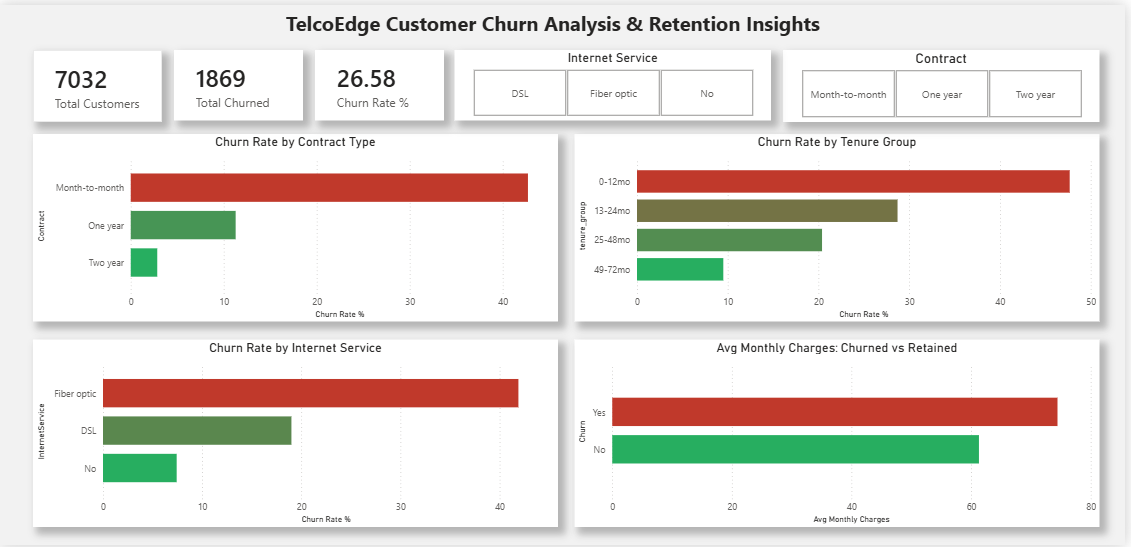

The dashboard page shown, as its layout file describes it:
{"tool":"powerbi","page":{"name":"Page 1","canvas":[1500,720],"ordinal":0},"visuals":[{"type":"cardVisual","fields":{"Data":["CountNonNull(telco_churn telco.customerID)"]},"box":[44,60,172,96],"z":0},{"type":"cardVisual","fields":{"Data":["telco_cleaned.Total Churned"]},"box":[231.5,60,172,94],"z":1000},{"type":"clusteredBarChart","title":"Churn Rate by Contract Type","fields":{"Y":["telco_cleaned.Churn Rate %"],"Category":["telco_churn telco.Contract"]},"box":[44,172,700,250],"z":2000},{"type":"clusteredBarChart","title":"Churn Rate by Internet Service","fields":{"Y":["telco_cleaned.Churn Rate %"],"Category":["telco_churn telco.InternetService"]},"box":[44,446,700,250],"z":3000},{"type":"cardVisual","fields":{"Data":["telco_cleaned.Churn Rate %"]},"box":[419,60,172,94],"z":4000},{"type":"clusteredBarChart","title":"Avg Monthly Charges: Churned vs Retained","fields":{"Category":["telco_churn telco.Churn"],"Y":["telco_churn telco.Avg Monthly Charges"]},"box":[766,446,700,250],"z":5000},{"type":"clusteredBarChart","title":"Churn Rate by Tenure Group","fields":{"Y":["telco_cleaned.Churn Rate %"],"Category":["telco_churn telco.tenure_group"]},"box":[766,172,700,250],"z":6000},{"type":"slicer","title":"Contract","fields":{"Values":["telco_churn telco.Contract"]},"box":[1044,60,422,94],"z":7000},{"type":"slicer","title":"Internet Service","fields":{"Values":["telco_churn telco.InternetService"]},"box":[606.5,60,422,94],"z":8000},{"type":"textbox","box":[375.9,0,748.3,46.6],"z":9000}]}

Visuals, with their boxes in screenshot pixels (x1, y1, x2, y2), scaled from the page's 1500x720 canvas onto the 1131x547 screenshot:
cardVisual - CountNonNull(telco_churn telco.customerID): pyautogui.locateOnScreen(33, 46, 163, 119)
cardVisual - telco_cleaned.Total Churned: pyautogui.locateOnScreen(175, 46, 304, 117)
"Churn Rate by Contract Type" clusteredBarChart: pyautogui.locateOnScreen(33, 131, 561, 321)
"Churn Rate by Internet Service" clusteredBarChart: pyautogui.locateOnScreen(33, 339, 561, 529)
cardVisual - telco_cleaned.Churn Rate %: pyautogui.locateOnScreen(316, 46, 446, 117)
"Avg Monthly Charges: Churned vs Retained" clusteredBarChart: pyautogui.locateOnScreen(578, 339, 1105, 529)
"Churn Rate by Tenure Group" clusteredBarChart: pyautogui.locateOnScreen(578, 131, 1105, 321)
"Contract" slicer: pyautogui.locateOnScreen(787, 46, 1105, 117)
"Internet Service" slicer: pyautogui.locateOnScreen(457, 46, 775, 117)
textbox: pyautogui.locateOnScreen(283, 0, 848, 35)
